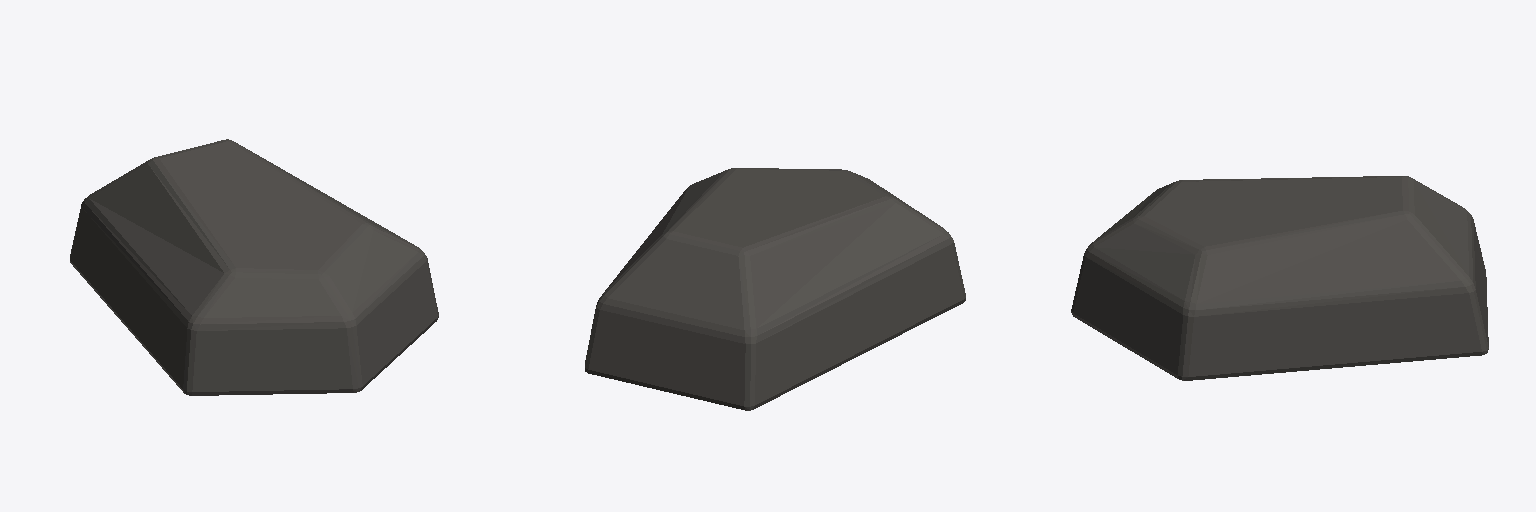
The model's file is boulder-3.obj.
The picture shows the model from 3 angles: view 1: azimuth 30°, elevation 25°; view 2: azimuth 150°, elevation 25°; view 3: azimuth 270°, elevation 25°; orthographic projection.
Parts seen in each view (by area): view 1: Boulder_Cube.001; view 2: Boulder_Cube.001; view 3: Boulder_Cube.001.
Part boxes in pixels (left/top/right/bottom): Boulder_Cube.001: left=70, top=139, right=438, bottom=395; Boulder_Cube.001: left=585, top=168, right=965, bottom=410; Boulder_Cube.001: left=1071, top=176, right=1488, bottom=380.
Bounding box in the file's own units: 0.5386 × 0.2359 × 0.724.